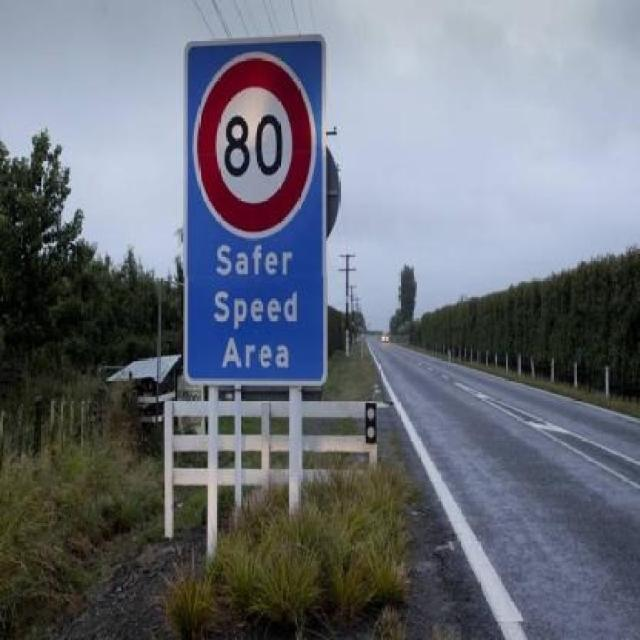forb_speed_over_80: (197, 56, 312, 235)
